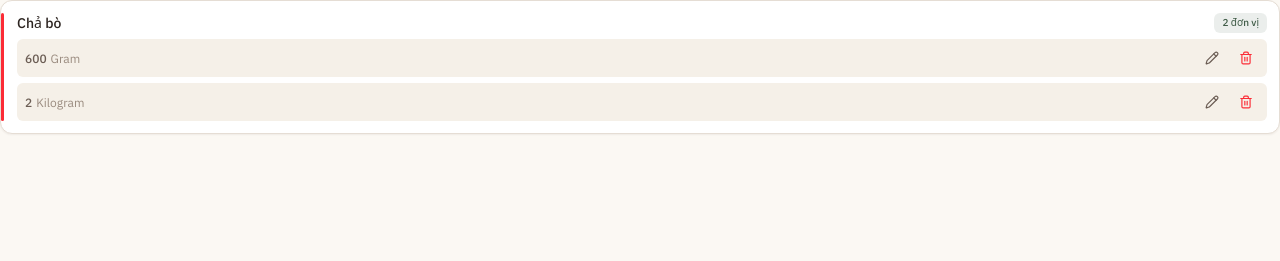
Test: PantryItem grouped units › keeps the editor open and shows the backend error when update fails
Click the button named "Sửa Kilogram" at {"x": 1212, "y": 102}, box [1199,89,1225,115]
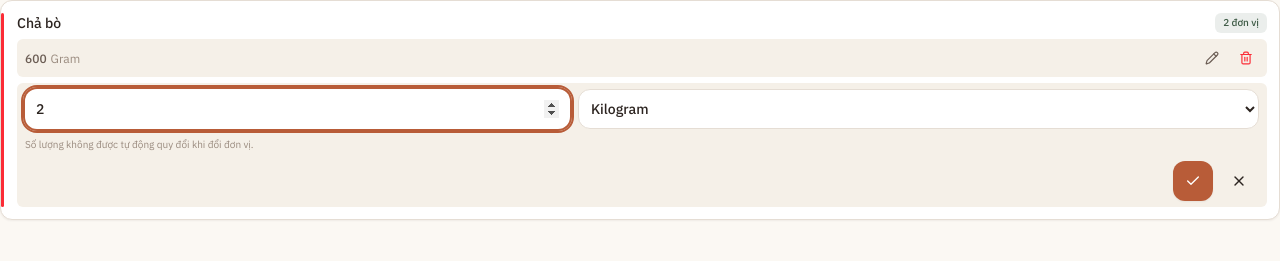
Select "Pound" in the dropdown at {"x": 918, "y": 109}, box [578,89,1259,129]
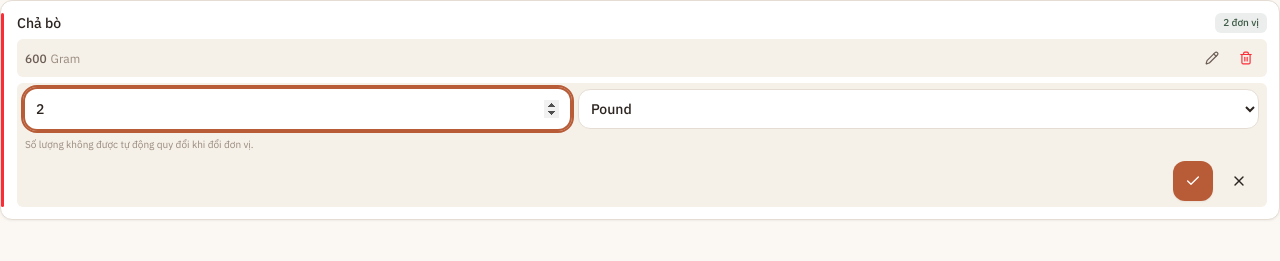
Click the button named "Lưu Kilogram" at {"x": 1193, "y": 181}, box [1173,161,1213,201]
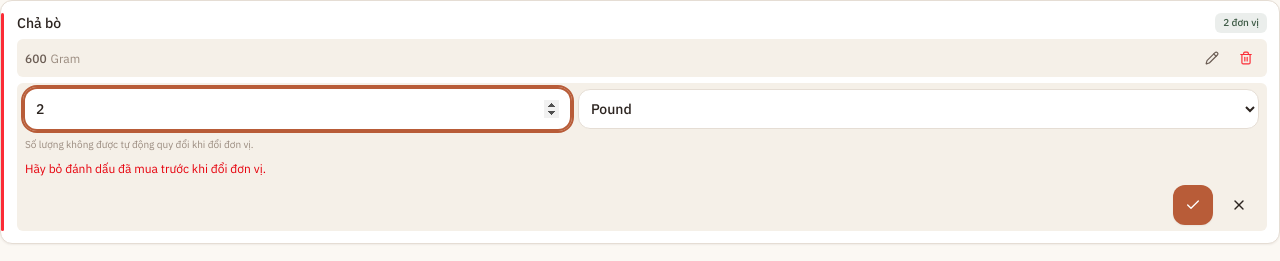
Result: the number field is shown at [25,89,570,129]
Result: the text "Hãy bỏ đánh dấu đã mua trước khi đổi đơn vị." is shown at [25,161,266,176]
